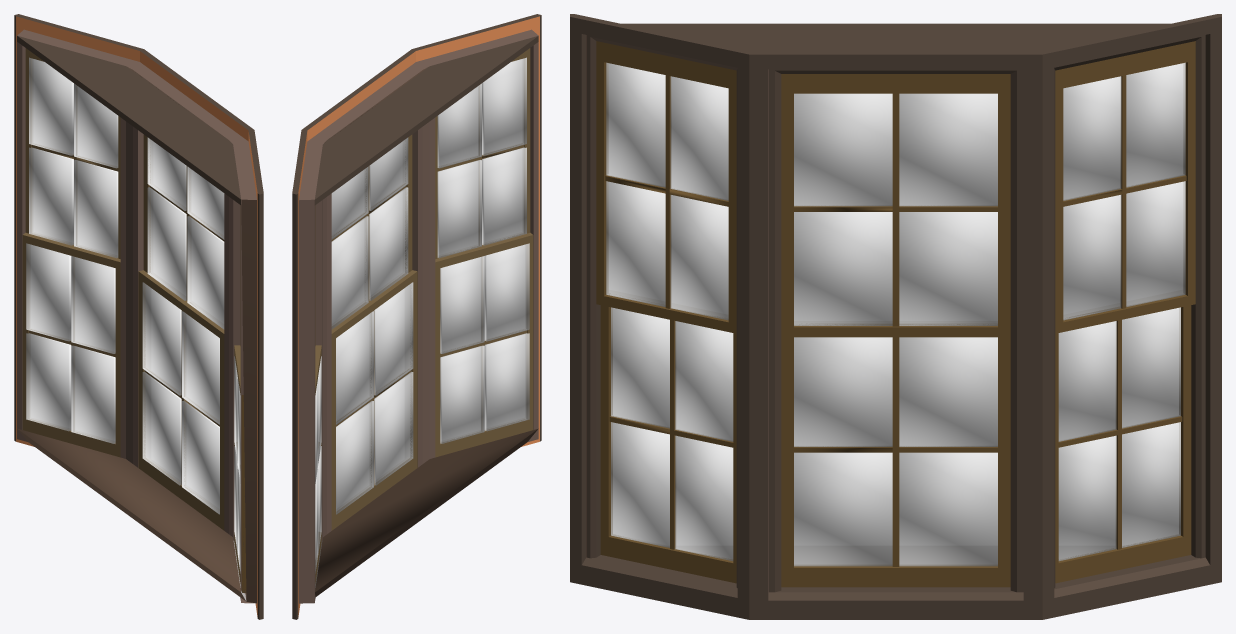
The model's file is window_big.fbx.
3 renders of one model, left to right at view 1: azimuth 30°, elevation 25°; view 2: azimuth 150°, elevation 25°; view 3: azimuth 270°, elevation 25°, orthographic. The views are drawn at different scales.
Parts seen in each view (by area): view 1: window3; view 2: window3; view 3: window3.
Boxes of the visible parts, x1,y1,x2,y2 form: window3: (14,14,263,619); window3: (292,14,541,619); window3: (570,14,1221,619).
Bounding box in the file's own units: 23.16 × 134 × 140.
